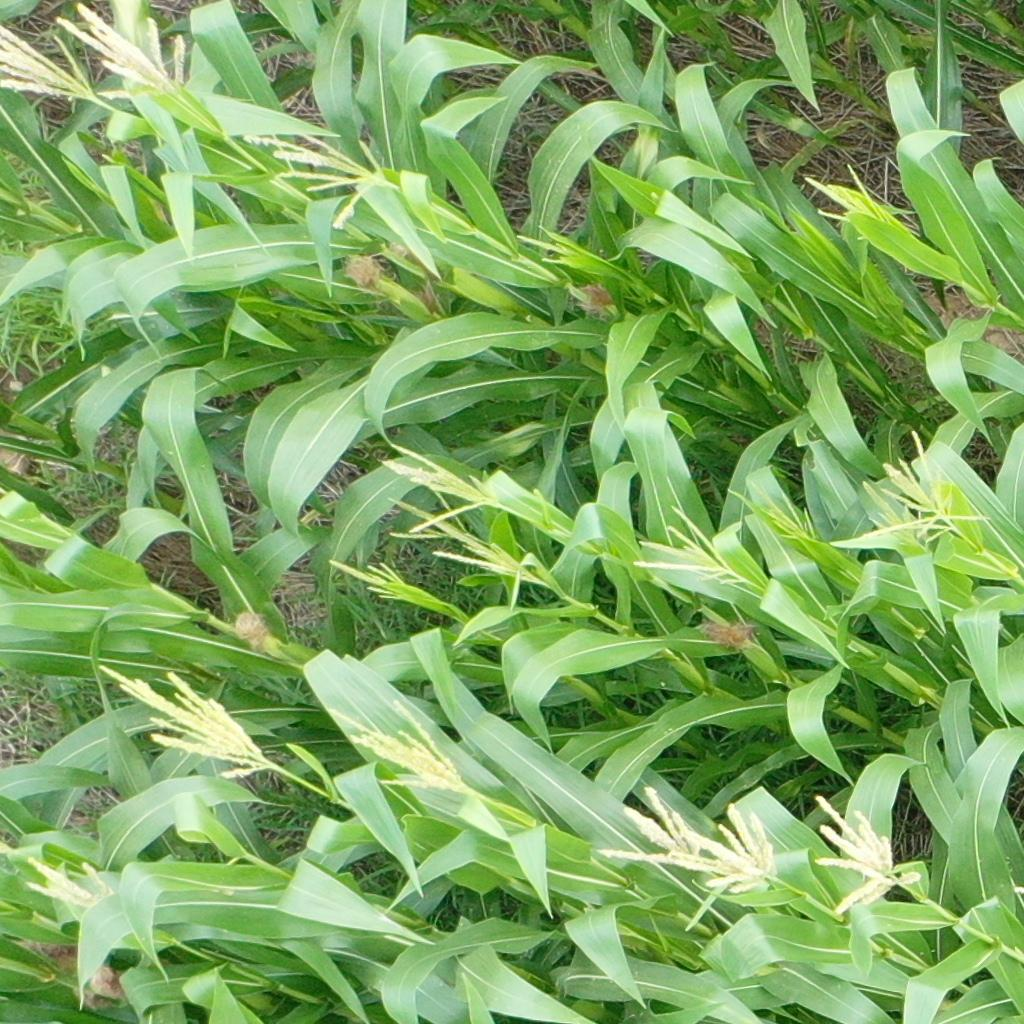Tassel: (99, 660, 277, 780), (243, 126, 400, 229), (385, 498, 546, 588), (327, 700, 469, 796), (810, 796, 921, 914), (880, 430, 988, 542), (55, 12, 193, 99), (382, 441, 502, 533), (633, 506, 751, 590), (1, 21, 102, 108), (597, 783, 703, 865), (700, 803, 783, 891), (726, 477, 819, 543), (803, 163, 890, 227), (22, 853, 115, 910), (858, 482, 922, 546), (326, 555, 408, 602), (514, 230, 575, 270)
